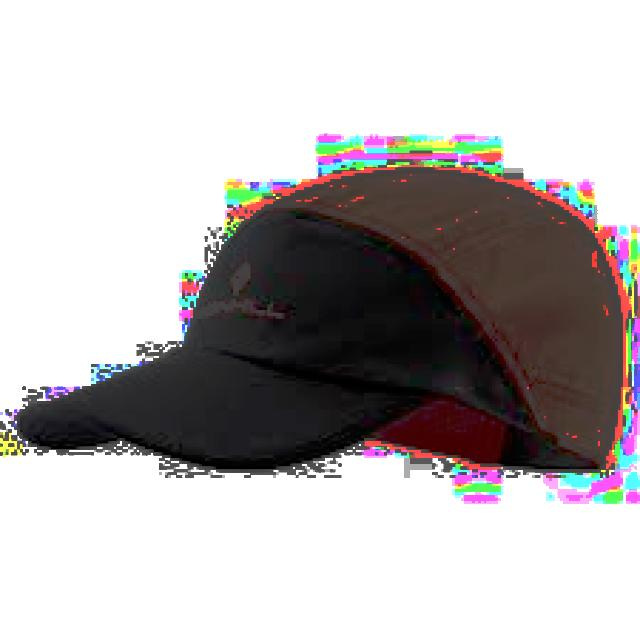TOPI: (8, 159, 623, 495)
